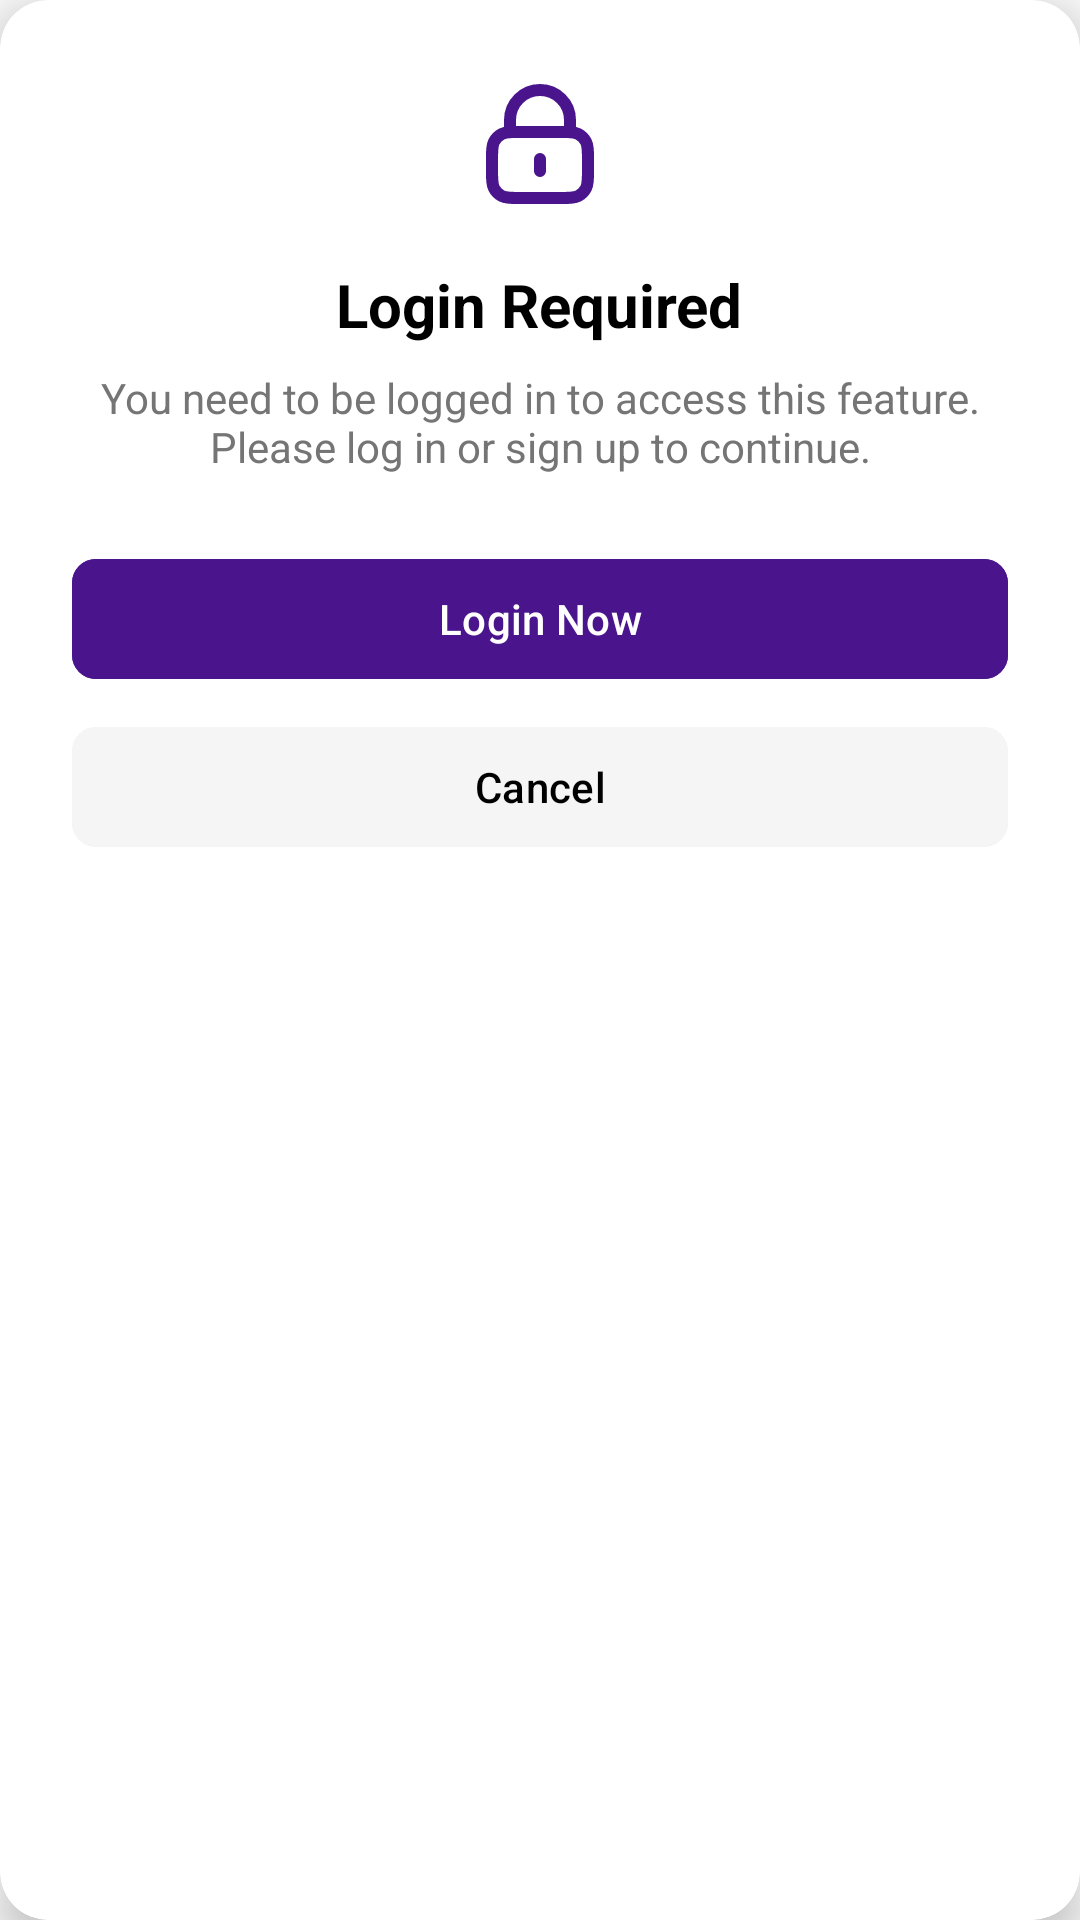

Icon click points for this 1080×1920 phone screenshot, format (x=x, y=y):
lock: (x=540, y=144)
